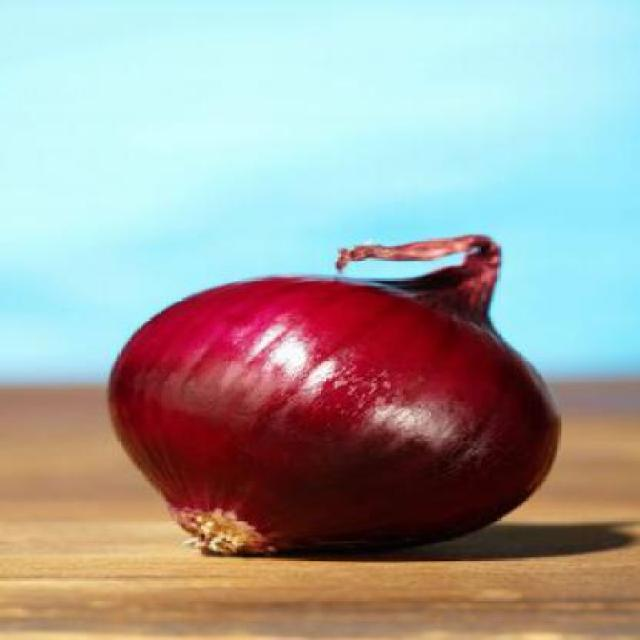Onion: (109, 235, 560, 555)
